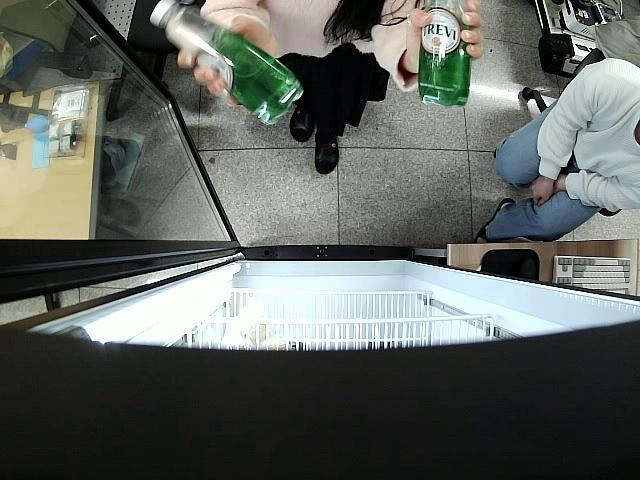18_trevi: (150, 0, 306, 128), (419, 0, 472, 107)
